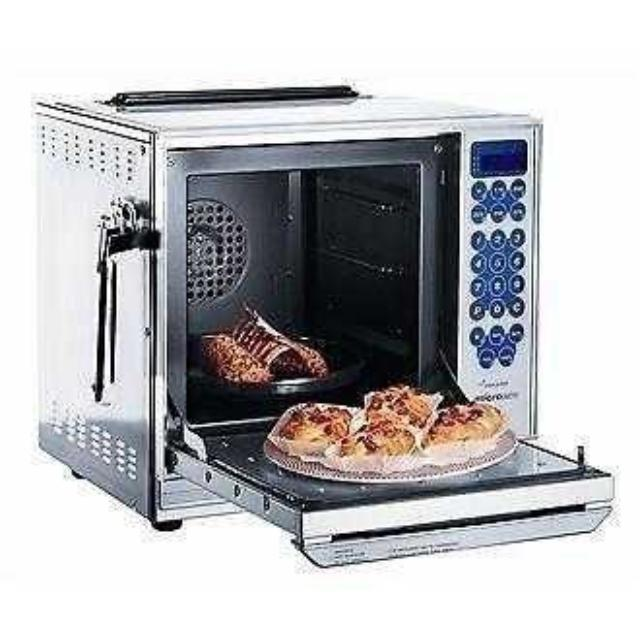Oven: (139, 107, 549, 529)
